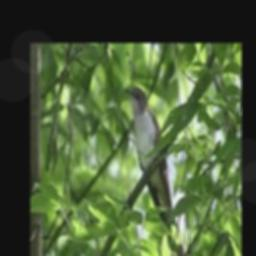Cuckoo: (125, 86, 192, 256)
